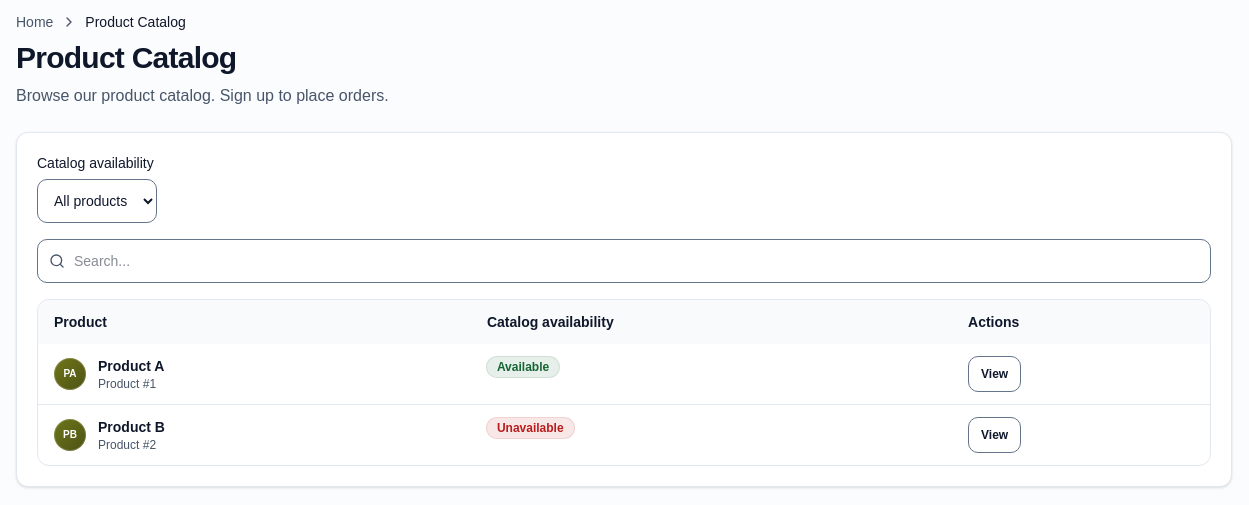
Test case: PublicCatalog › filters by catalog availability without claiming inventory levels
Step 1. Select "Available" in the dropdown labelled "Catalog availability" → (97, 201), box [37,179,157,223]
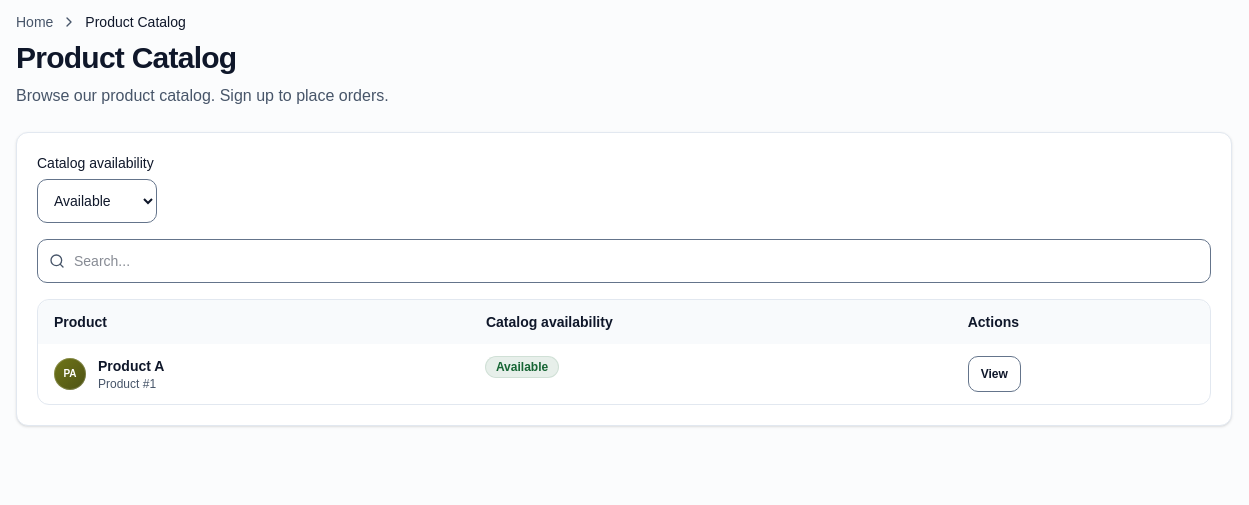
Expected: the text "Product A" is shown, [98,356,164,376]
Now the text "Product B" is gone
